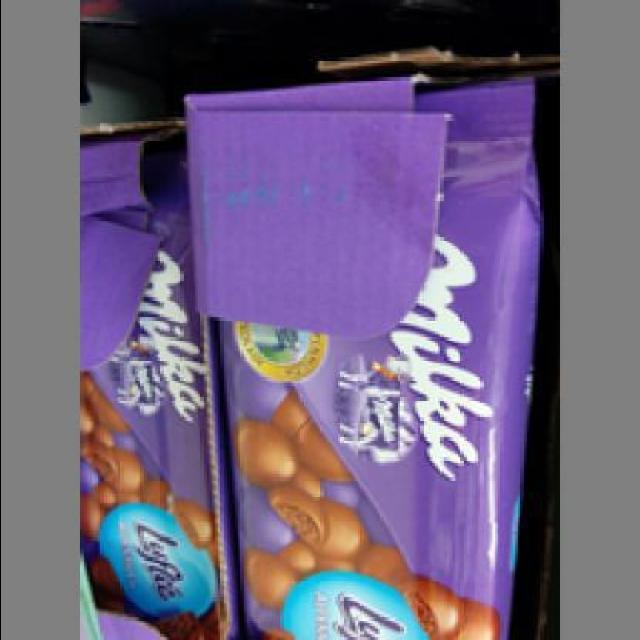Chocolate bar: (230, 80, 548, 637), (80, 154, 223, 637)
